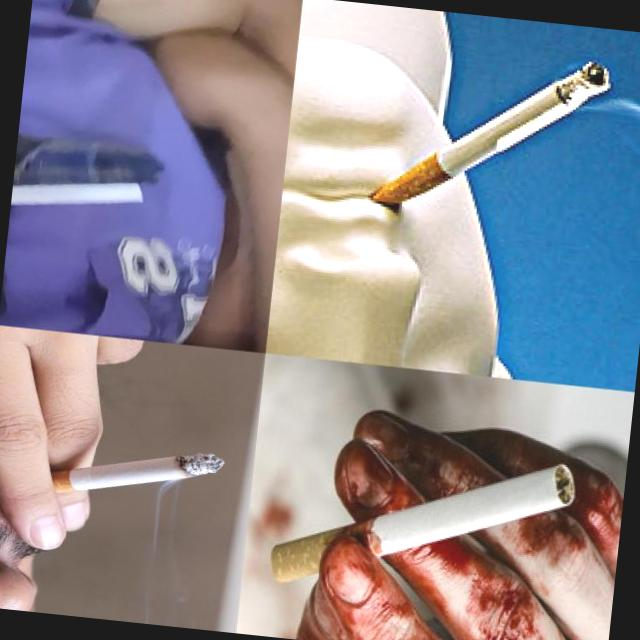cigarette: (265, 433, 579, 617), (363, 40, 610, 231), (14, 432, 228, 518), (9, 164, 148, 231)
